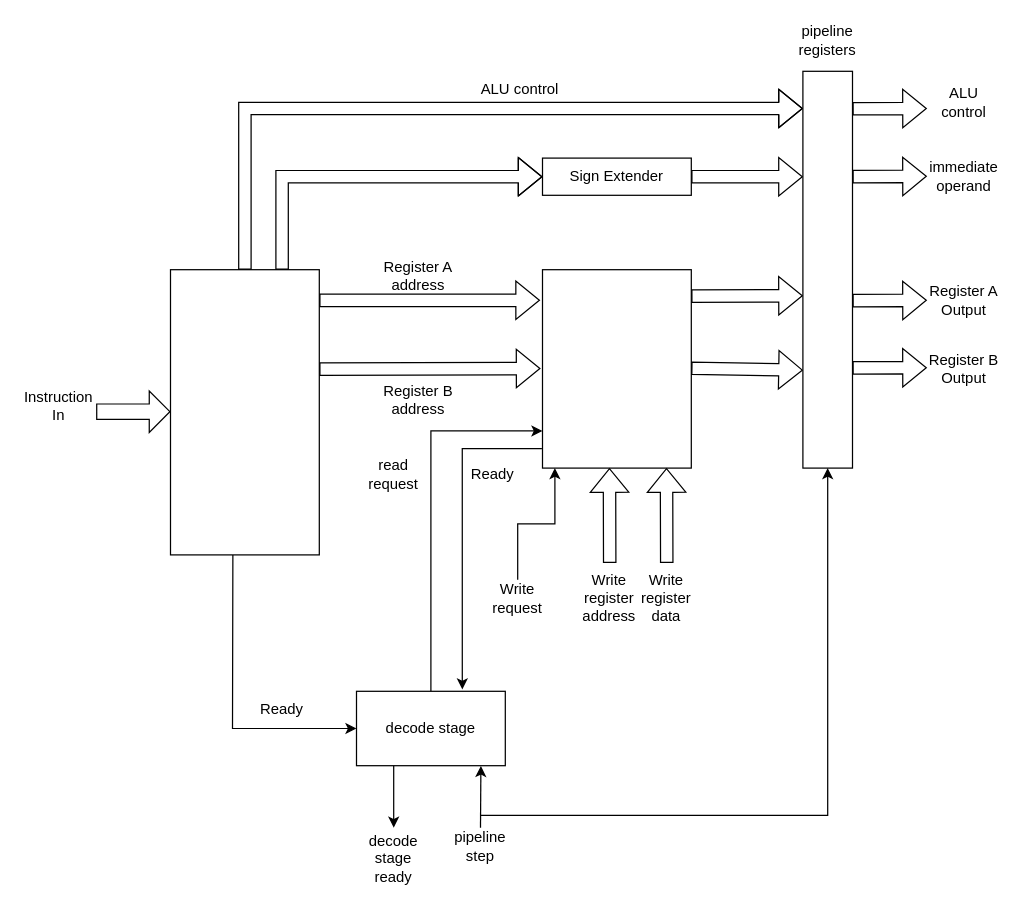
Image size: 1022x906. Some labels were removed from this diagram. Here are the shapes that lost their labels. From the top down, the centre of each, then its label:
At pixel 616 368: "Register Array".
At pixel 244 411: "Decode".
